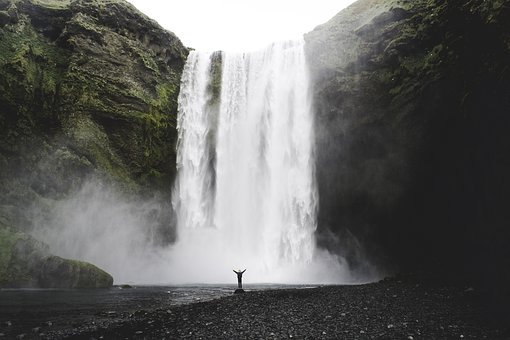mountain: (4, 3, 501, 283)
waterfall: (158, 46, 366, 289)
